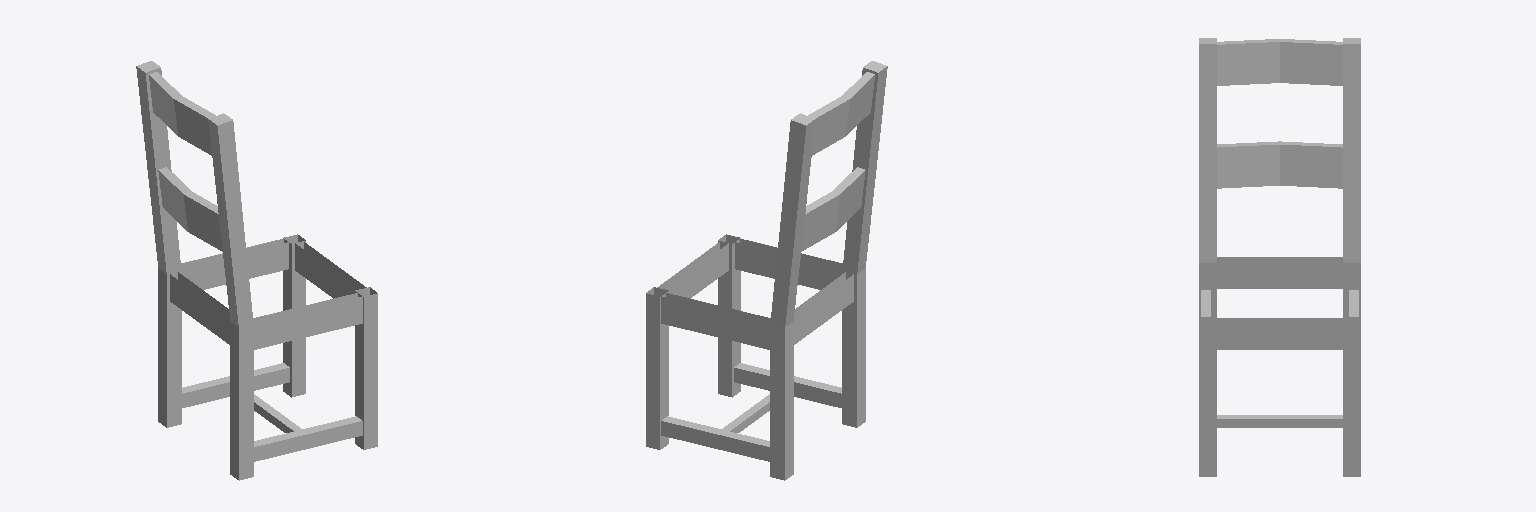
Rendered from ChairDining_A.obj.
3 renders of one model, left to right at view 1: azimuth 30°, elevation 25°; view 2: azimuth 150°, elevation 25°; view 3: azimuth 270°, elevation 25°, orthographic.
Visible parts, largest first — view 1: ChairDining_A.001_ChairDining.007; view 2: ChairDining_A.001_ChairDining.007; view 3: ChairDining_A.001_ChairDining.007.
Part boxes in pixels (x1,y1,x2,y2): ChairDining_A.001_ChairDining.007: (136, 61, 377, 480); ChairDining_A.001_ChairDining.007: (646, 61, 887, 480); ChairDining_A.001_ChairDining.007: (1199, 38, 1360, 476).
Size of the model in its own units: 0.4936 by 1.04 by 0.4232.